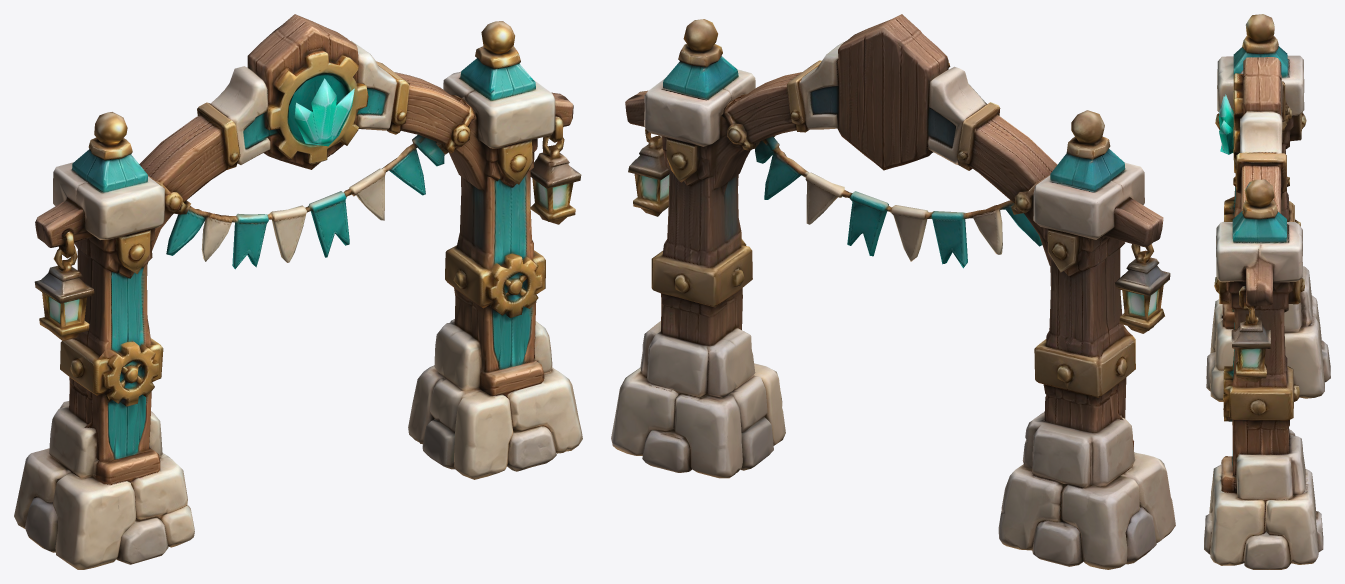
The model's file is X_MarketArch_fixed.glb.
The picture shows the model from 3 angles, left to right: view 1: azimuth 30°, elevation 25°; view 2: azimuth 150°, elevation 25°; view 3: azimuth 270°, elevation 25°; orthographic projection. The views are drawn at different scales.
Parts seen in each view (by area): view 1: tripo_node_22b8553a-efe8-4441-bd65-dd7c521480b3; view 2: tripo_node_22b8553a-efe8-4441-bd65-dd7c521480b3; view 3: tripo_node_22b8553a-efe8-4441-bd65-dd7c521480b3.
Part boxes in pixels (<box>): tripo_node_22b8553a-efe8-4441-bd65-dd7c521480b3: <box>14,14,582,569</box>; tripo_node_22b8553a-efe8-4441-bd65-dd7c521480b3: <box>611,14,1175,569</box>; tripo_node_22b8553a-efe8-4441-bd65-dd7c521480b3: <box>1204,14,1330,569</box>.
Size of the model in its own units: 0.9805 by 0.8463 by 0.2378.
1 material, 1 textured.
